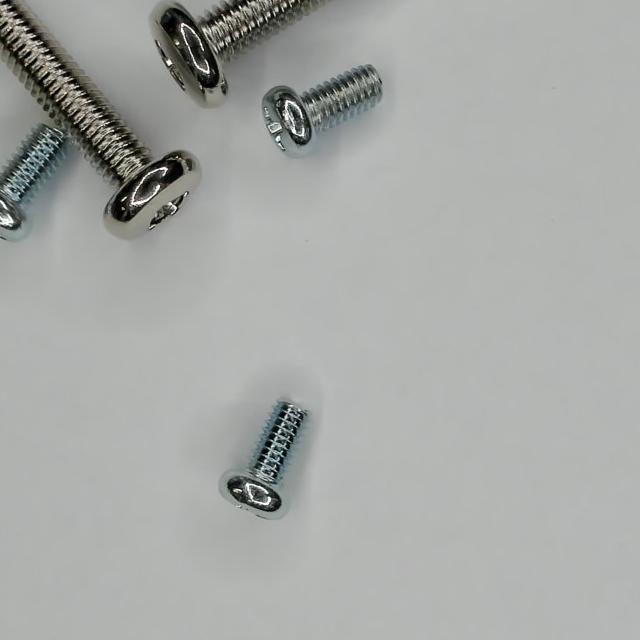Screw: (0, 0, 201, 238), (150, 0, 326, 106), (263, 64, 383, 156), (220, 401, 308, 520), (0, 123, 64, 240)
